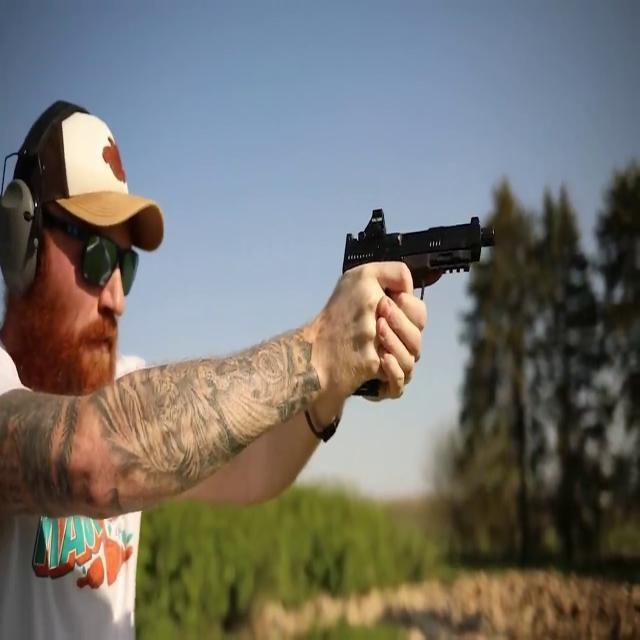Handgun: (334, 190, 501, 411)
